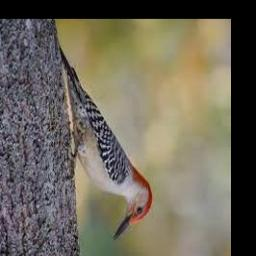Woodpecker: (58, 45, 153, 240)
